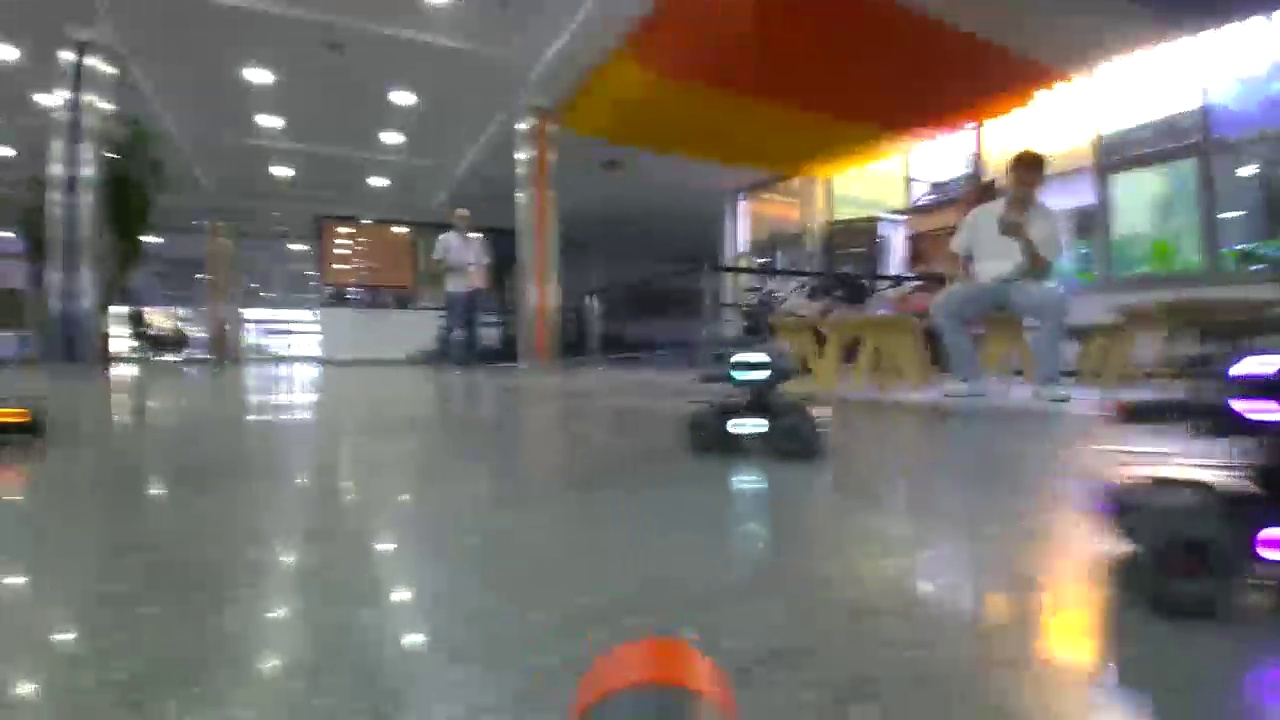robot: (1105, 350, 1280, 610), (688, 345, 825, 455)
